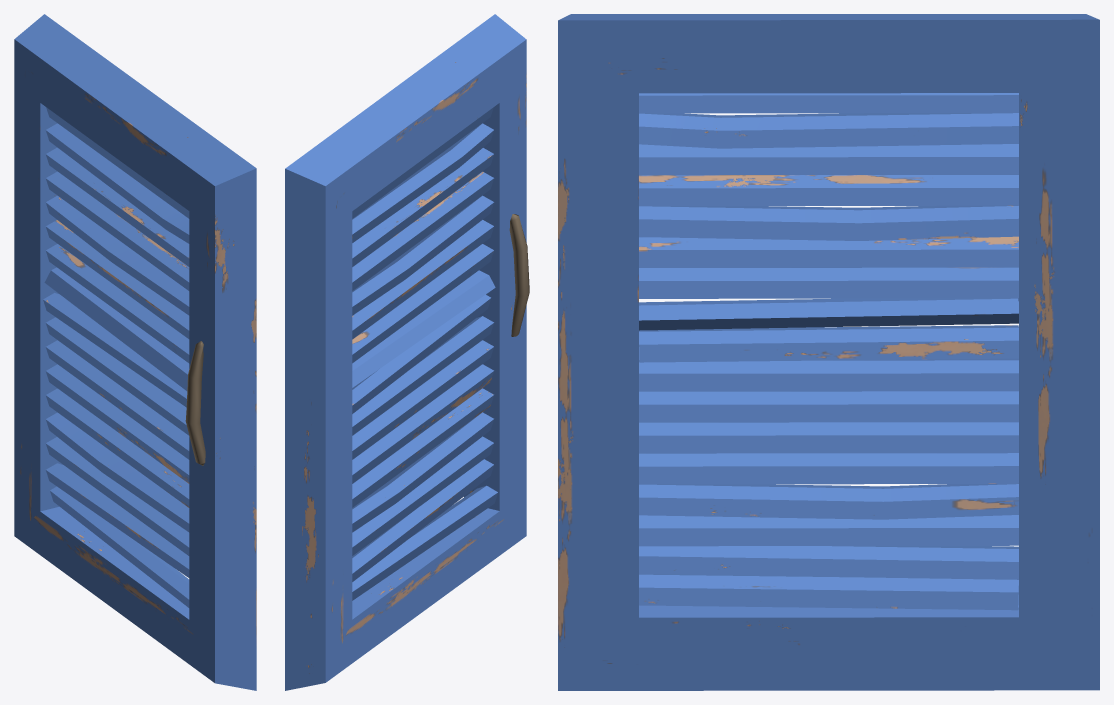
The model's file is ShutterWallSmallWindow.fbx.
The picture shows the model from 3 angles, left to right: view 1: azimuth 30°, elevation 25°; view 2: azimuth 150°, elevation 25°; view 3: azimuth 270°, elevation 25°; orthographic projection. The views are drawn at different scales.
Parts seen in each view (by area): view 1: ShutterWallSmallWindow; view 2: ShutterWallSmallWindow; view 3: ShutterWallSmallWindow.
Boxes of the visible parts, <box> form: ShutterWallSmallWindow: <box>14,14,256,690</box>; ShutterWallSmallWindow: <box>285,14,529,690</box>; ShutterWallSmallWindow: <box>558,14,1099,690</box>.
Size of the model in its own units: 7.43 by 72.95 by 53.41.
2 materials, 1 textured.
